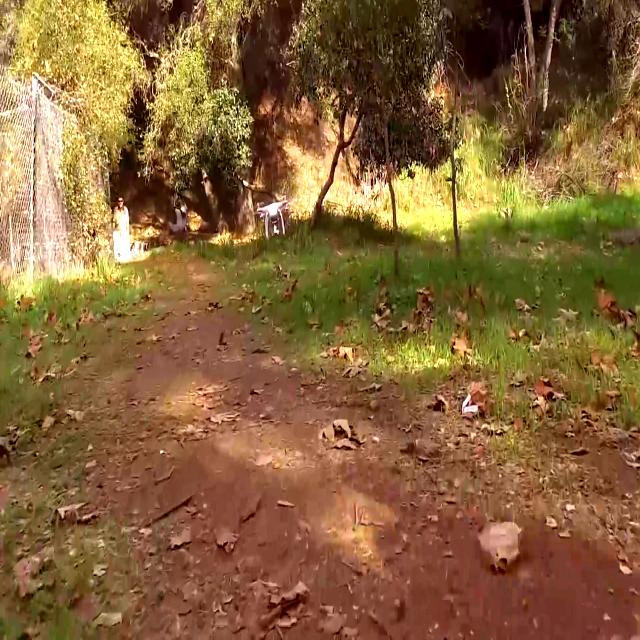drone: (255, 198, 288, 235)
